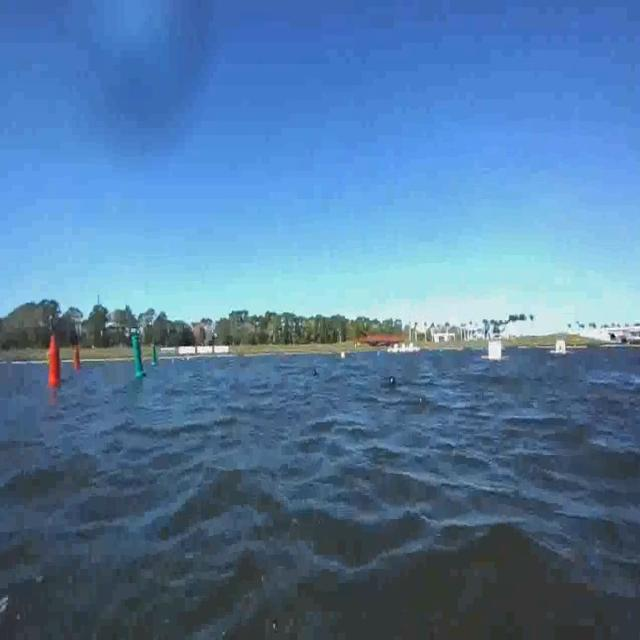black-buoy: (312, 367, 319, 383), (390, 378, 396, 388)
green-column-buoy: (132, 334, 146, 379), (152, 347, 158, 365)
red-column-buoy: (48, 334, 64, 386), (73, 345, 82, 370)
